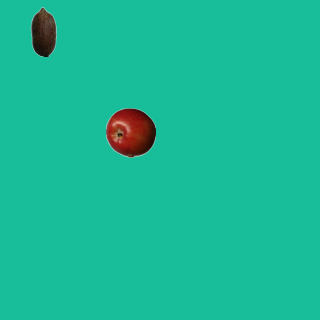Apple Braeburn: (105, 107, 155, 157)
Nut Pecan: (18, 6, 68, 56)
